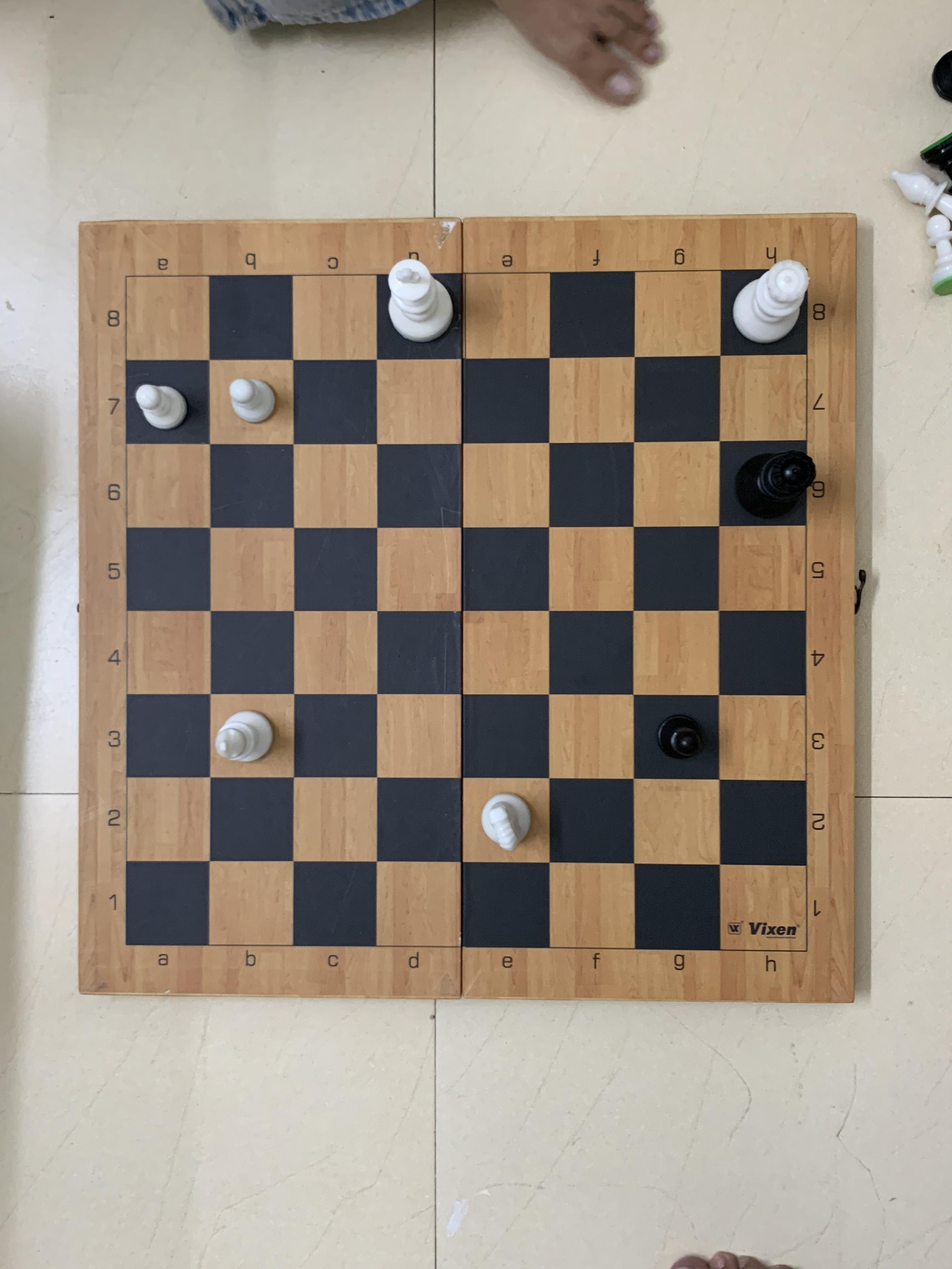black_pawn: (634, 694, 721, 781)
black_queen: (726, 436, 824, 521)
white_bishop: (212, 696, 294, 774)
white_king: (375, 249, 464, 351)
white_knight: (468, 781, 553, 868)
white_pawn: (129, 358, 198, 449), (208, 367, 281, 439)
white_queen: (722, 244, 812, 353)
